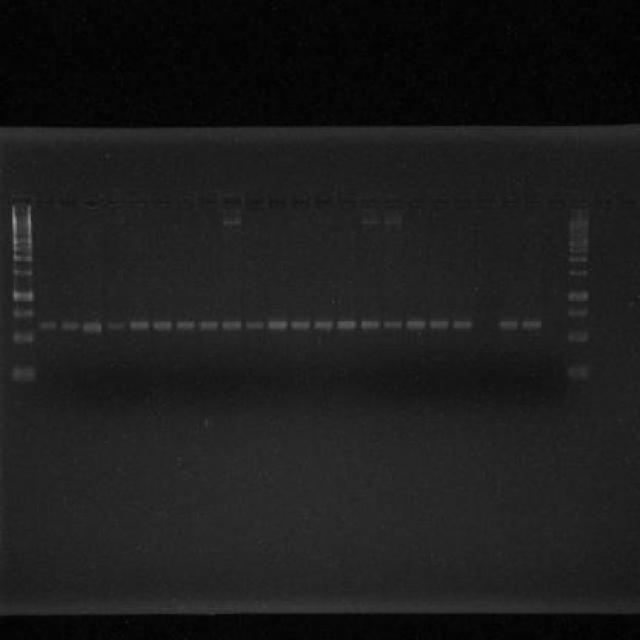B: (497, 314, 520, 332), (404, 314, 426, 332), (173, 316, 196, 332), (58, 317, 82, 332), (520, 316, 542, 332), (335, 316, 357, 332), (82, 320, 104, 336), (427, 317, 450, 332), (220, 317, 243, 332), (151, 317, 174, 332), (104, 318, 127, 333), (196, 317, 218, 332), (452, 318, 474, 333), (242, 318, 266, 331), (358, 316, 380, 330), (266, 317, 288, 331), (382, 317, 404, 331), (290, 318, 312, 332), (312, 318, 334, 332), (128, 318, 150, 332), (37, 318, 57, 332)
L: (8, 180, 640, 220)
M: (7, 217, 38, 388), (565, 220, 593, 397)
P: (566, 359, 592, 384), (11, 363, 37, 385), (566, 328, 591, 347), (10, 306, 36, 322), (10, 286, 36, 302), (566, 305, 591, 321), (12, 330, 34, 348), (10, 216, 35, 230), (11, 267, 34, 281), (567, 288, 590, 302), (567, 252, 590, 266), (12, 252, 34, 266), (568, 266, 590, 280), (568, 219, 590, 232), (10, 237, 36, 246), (567, 237, 590, 246), (11, 245, 34, 253), (568, 246, 590, 254)
Pc: (358, 188, 382, 215), (382, 188, 406, 214), (500, 187, 522, 215), (312, 189, 336, 214), (453, 188, 476, 214), (523, 190, 546, 216), (594, 188, 616, 215), (408, 188, 430, 214), (430, 188, 452, 214), (476, 187, 498, 213), (618, 188, 640, 214), (568, 187, 592, 210), (265, 192, 290, 214), (54, 191, 77, 214), (546, 188, 568, 212), (219, 192, 244, 212), (126, 192, 148, 214), (289, 190, 311, 212), (104, 190, 125, 213), (78, 193, 102, 213), (148, 193, 172, 213), (243, 193, 266, 213), (196, 192, 218, 212), (10, 190, 33, 208), (338, 191, 356, 214), (34, 192, 54, 211), (174, 193, 194, 212)
